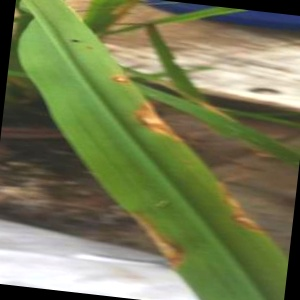Brown_Spot: (110, 91, 192, 149), (114, 210, 187, 258), (212, 198, 276, 240), (93, 63, 142, 104)
